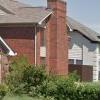Chimney: (43, 3, 70, 67)
